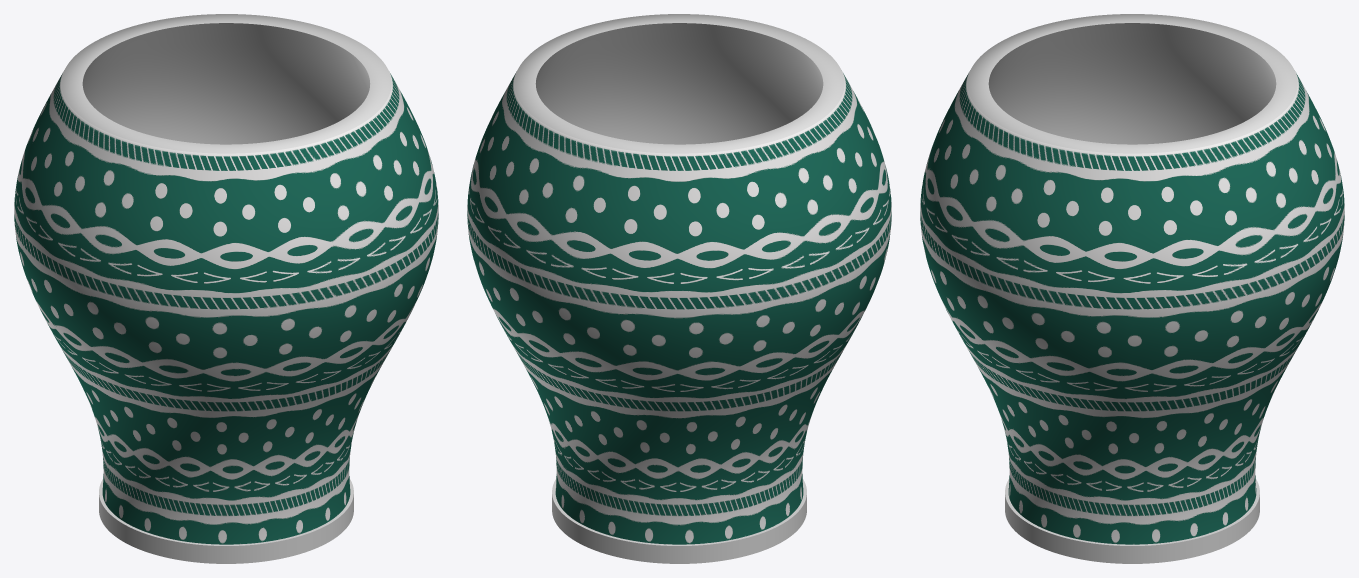
Rendered from Vase5.fbx.
The picture shows the model from 3 angles, left to right: view 1: azimuth 30°, elevation 25°; view 2: azimuth 150°, elevation 25°; view 3: azimuth 270°, elevation 25°; orthographic projection.
Parts seen in each view (by area): view 1: Object_4; view 2: Object_4; view 3: Object_4.
Part boxes in pixels (<box>): Object_4: <box>14,14,438,563</box>; Object_4: <box>467,14,891,563</box>; Object_4: <box>920,14,1344,563</box>.
Bounding box in the file's own units: 34.72 × 38.48 × 34.73.
